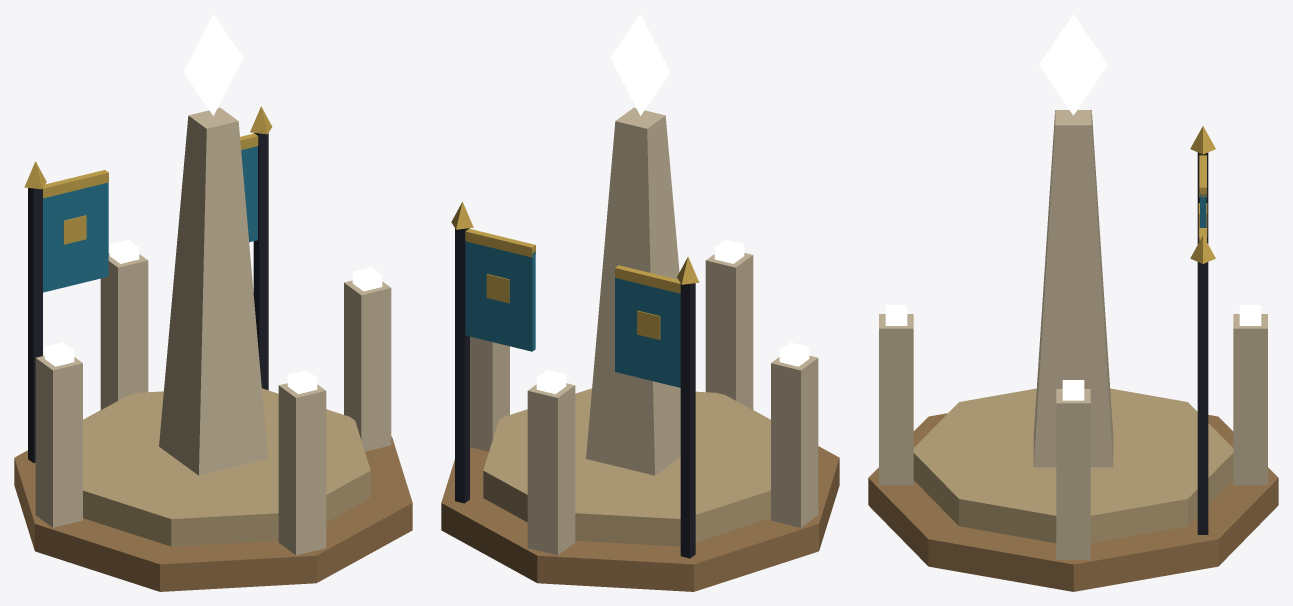
File: hero_forge_t2.glb
3 renders of one model, left to right at view 1: azimuth 30°, elevation 25°; view 2: azimuth 150°, elevation 25°; view 3: azimuth 270°, elevation 25°, orthographic.
Parts seen in each view (by area): view 1: body, glow; view 2: body, glow; view 3: body, glow.
Boxes of the visible parts, x1,y1,x2,y2 form: body: [14, 106, 412, 591]; glow: [44, 14, 382, 394]; body: [441, 107, 839, 591]; glow: [536, 14, 809, 394]; body: [868, 110, 1278, 591]; glow: [885, 14, 1261, 400].
Size of the model in its own units: 1.9 by 2.51 by 1.9.
